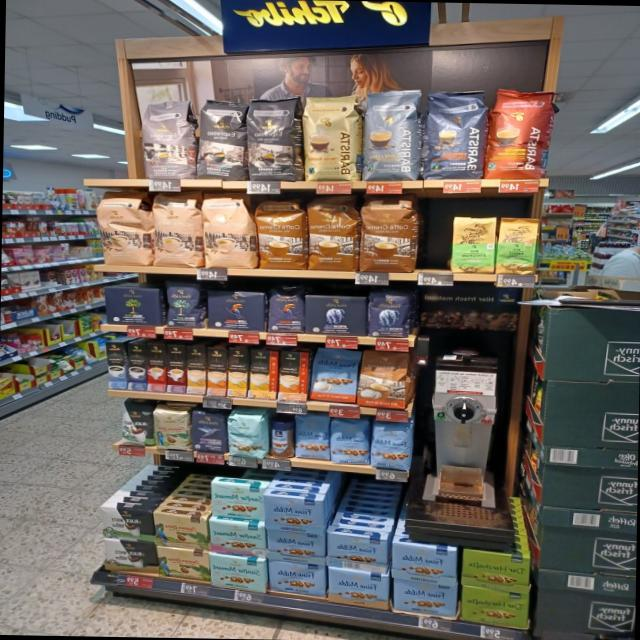AB Bohne: (366, 290, 411, 338)
AB Gemahlen: (304, 294, 366, 335)
Athiopien Bohne: (495, 215, 543, 274)
Athiopien Gemahlen: (450, 216, 494, 275)
BM Bohne: (166, 279, 202, 329)
BM Gemahlen: (103, 284, 161, 324)
BW Bohne: (116, 400, 154, 445)
BW Gemahlen: (101, 536, 159, 574), (98, 504, 155, 541)
Barista CB: (301, 91, 359, 181)
Barista CC: (361, 86, 424, 179)
Barista Espresso: (422, 86, 487, 180)
Barista Kolumbien: (482, 83, 558, 178)
C Fino Bohne: (190, 408, 227, 454)
CC Mild: (200, 192, 252, 268), (95, 190, 148, 264), (152, 189, 200, 265)
CC Vollmundig: (357, 352, 410, 408)
CC Vollmundig 36 Pads: (360, 192, 420, 272), (306, 192, 360, 272), (254, 194, 304, 269)
Colombia BB Bohne: (152, 406, 188, 451)
Colombia BB Gemahlen: (152, 511, 207, 552), (155, 545, 210, 582)
Empty Shelf: (417, 216, 451, 272)
Espresso Aromatisch: (138, 98, 193, 176)
Espresso Kraftig: (196, 99, 246, 182)
Espresso S Art: (246, 93, 300, 180)
FM 36 Pads: (309, 348, 359, 403)
FM Bohne: (370, 422, 411, 470), (330, 419, 369, 465), (294, 414, 330, 459)
FM Gemahlen: (391, 540, 458, 586), (326, 529, 387, 576), (326, 565, 389, 610), (262, 492, 325, 535), (392, 576, 456, 617), (267, 559, 328, 598), (266, 529, 326, 565)
FM Instant: (268, 417, 295, 458)
Herzhatfe Mundig: (460, 584, 529, 631), (459, 548, 529, 594)
LG Bohne: (267, 284, 304, 332)
LG Gemahlen: (206, 288, 264, 330)
SM Bohne: (225, 412, 266, 458)
SM Gemahlen: (208, 551, 267, 595), (208, 517, 267, 559), (209, 481, 265, 521)
Simo CCMild: (248, 351, 278, 398)
Simo CCMild bigpack: (227, 348, 247, 397)
Simo CCVollmundig: (278, 352, 308, 399)
Simo CCVollmundig bigpack: (207, 347, 226, 395)
Simo Decaff: (187, 346, 206, 393)
Simo Es Brazil: (146, 343, 166, 392)
Simo Es Caramel: (166, 344, 186, 393)
Simo Es Kraft: (127, 342, 146, 390)
Simo Es Vanilla: (105, 341, 127, 389)
